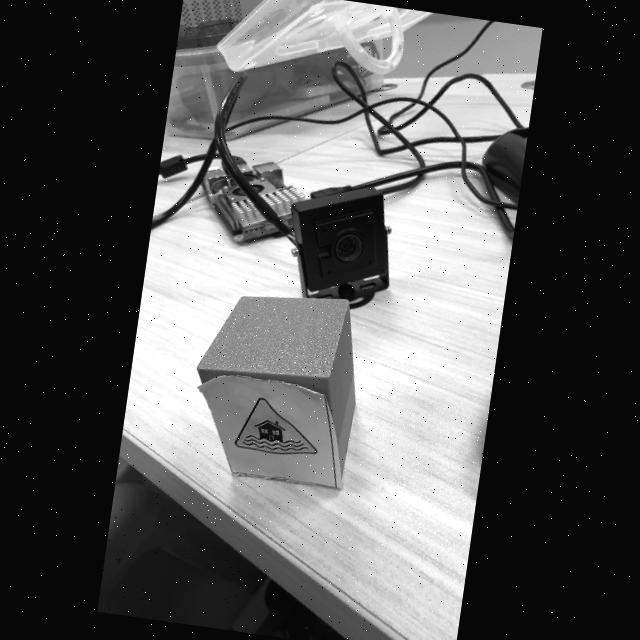Tsunami: (235, 398, 317, 455)
